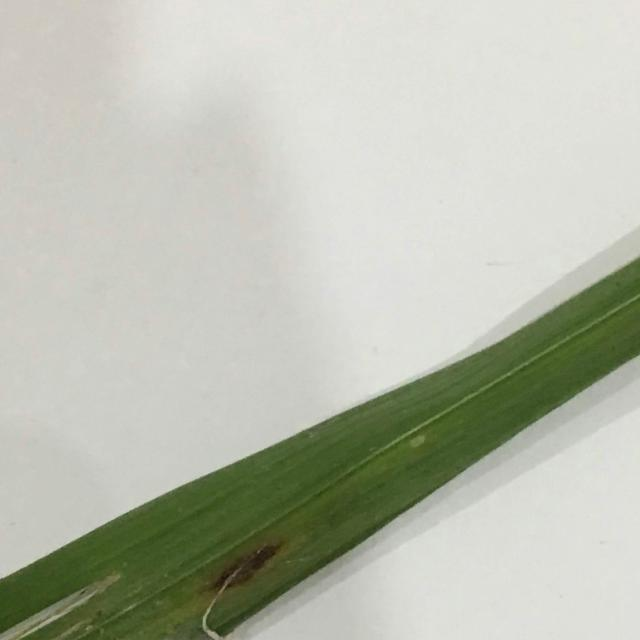brownspots: (194, 534, 298, 598)
